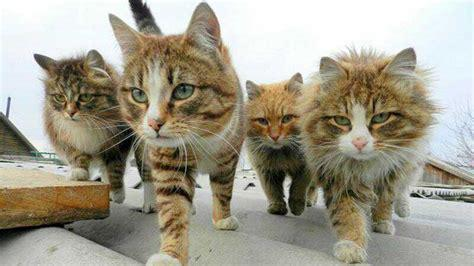cat: (109, 1, 245, 266), (306, 49, 428, 262), (33, 53, 126, 203), (244, 74, 309, 215)
